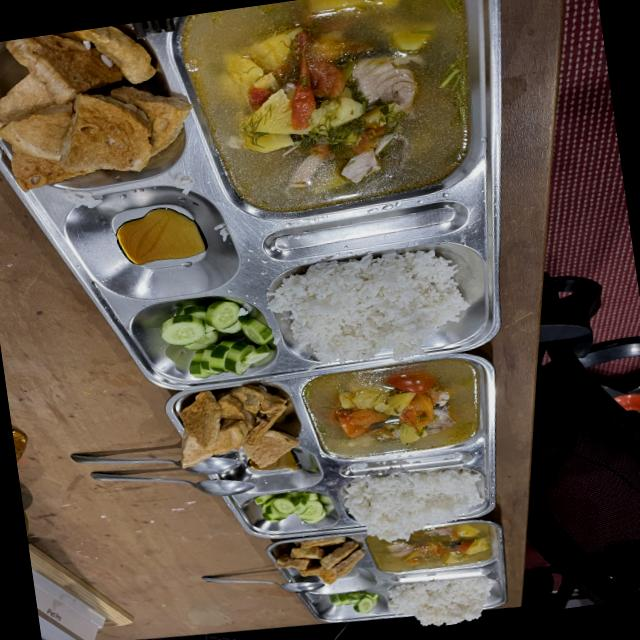canh chua: (186, 0, 470, 217), (296, 354, 476, 465), (376, 529, 485, 580)
com: (269, 250, 469, 360), (345, 468, 482, 543), (389, 575, 495, 627)
dua leo: (162, 300, 274, 378), (255, 492, 329, 523), (330, 591, 379, 613)
nuoc mam: (117, 208, 206, 265), (341, 600, 346, 604)
